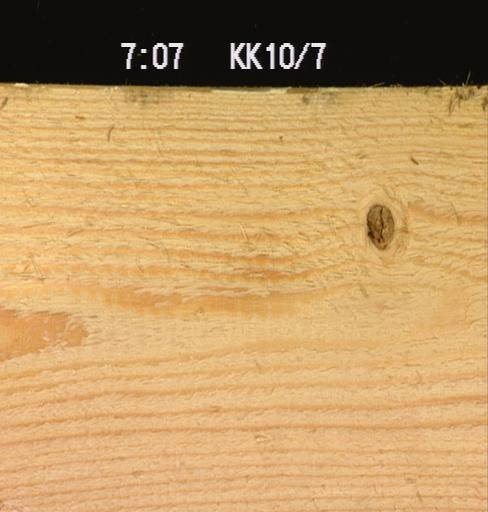wave: (187, 84, 377, 97)
